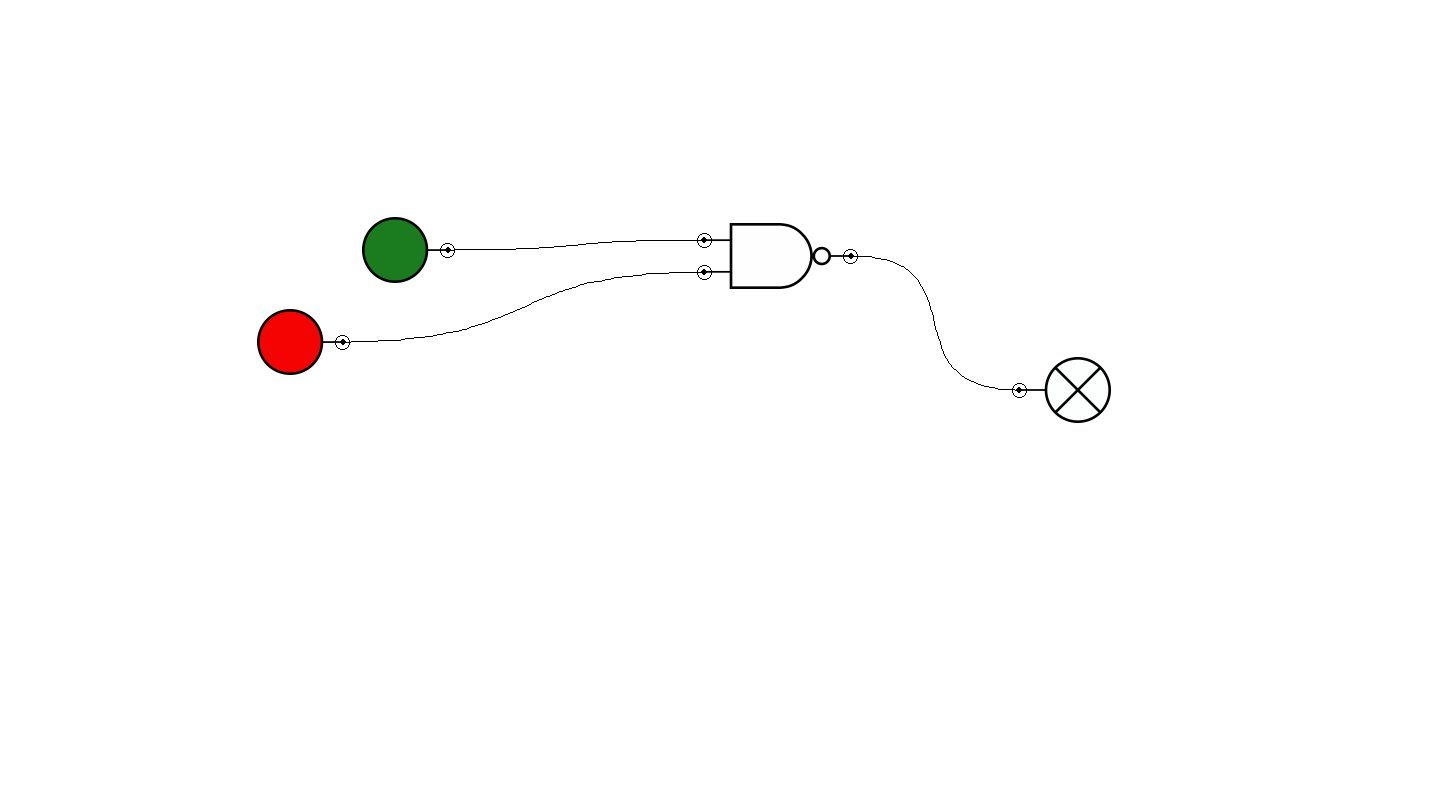bulb: (1012, 357, 1111, 423)
nand: (697, 223, 858, 289)
switch_False: (257, 309, 350, 375)
switch_True: (362, 217, 455, 283)
